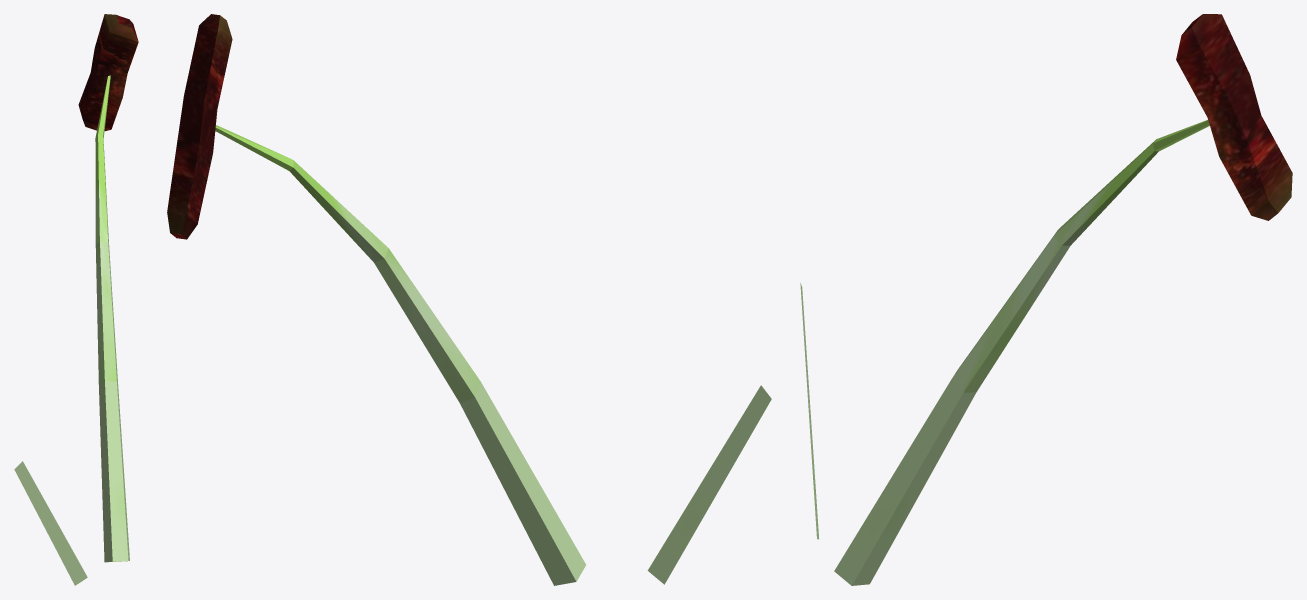
Rendered from Lily_Stamen_3.gltf.
The picture shows the model from 3 angles, left to right: view 1: azimuth 30°, elevation 25°; view 2: azimuth 150°, elevation 25°; view 3: azimuth 270°, elevation 25°; orthographic projection. The views are drawn at different scales.
Parts seen in each view (by area): view 1: Stamen.003; view 2: Stamen.003; view 3: Stamen.003.
Boxes of the visible parts, x1,y1,x2,y2 form: Stamen.003: (14,14,138,585); Stamen.003: (167,14,771,585); Stamen.003: (800,14,1292,585).
Bounding box in the file's own units: 1.22 × 2.02 × 1.38.
Materials: 1 (1 with a texture image).
